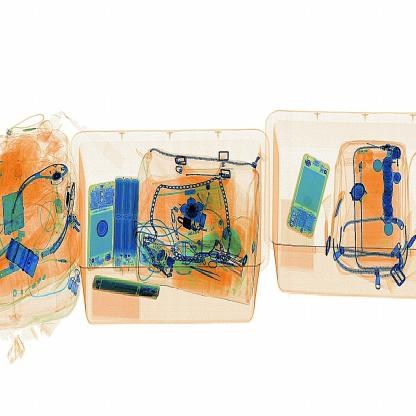wrench: (330, 182, 348, 225)
